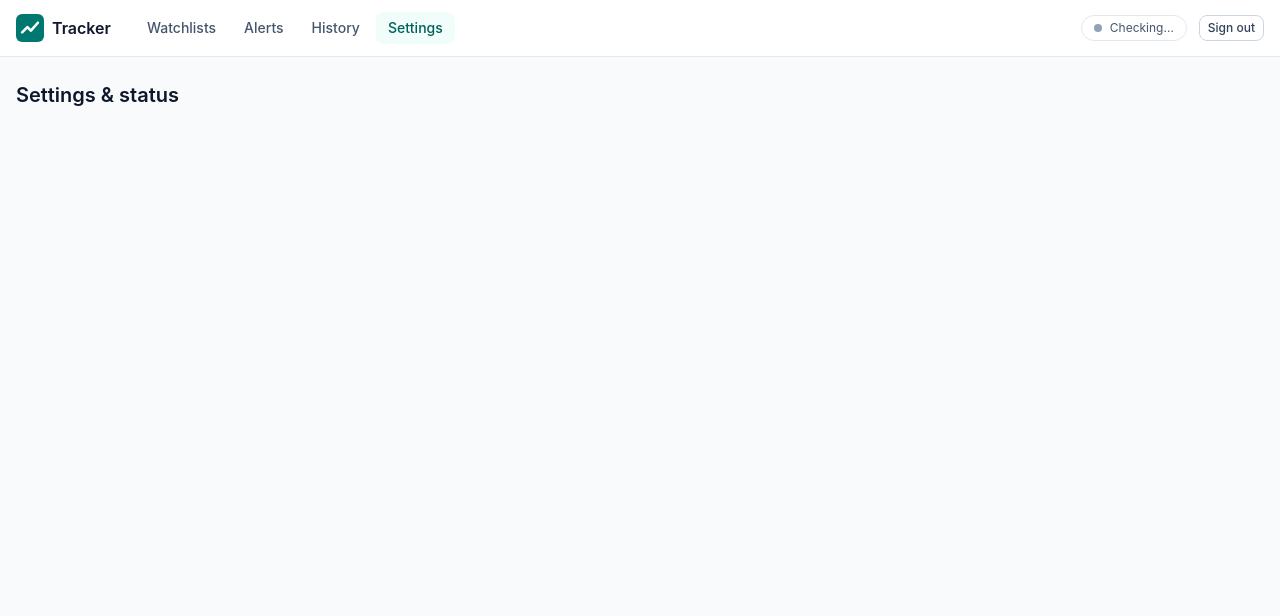
Test case: session handling › returns to the login page after signing out
The width and height of the screenshot is (1280, 616).
What coordinates should you click on to do the following:
click the button "Sign out"
I would click on:
 (1231, 28)
Its box is 1199,15 -> 1264,41.
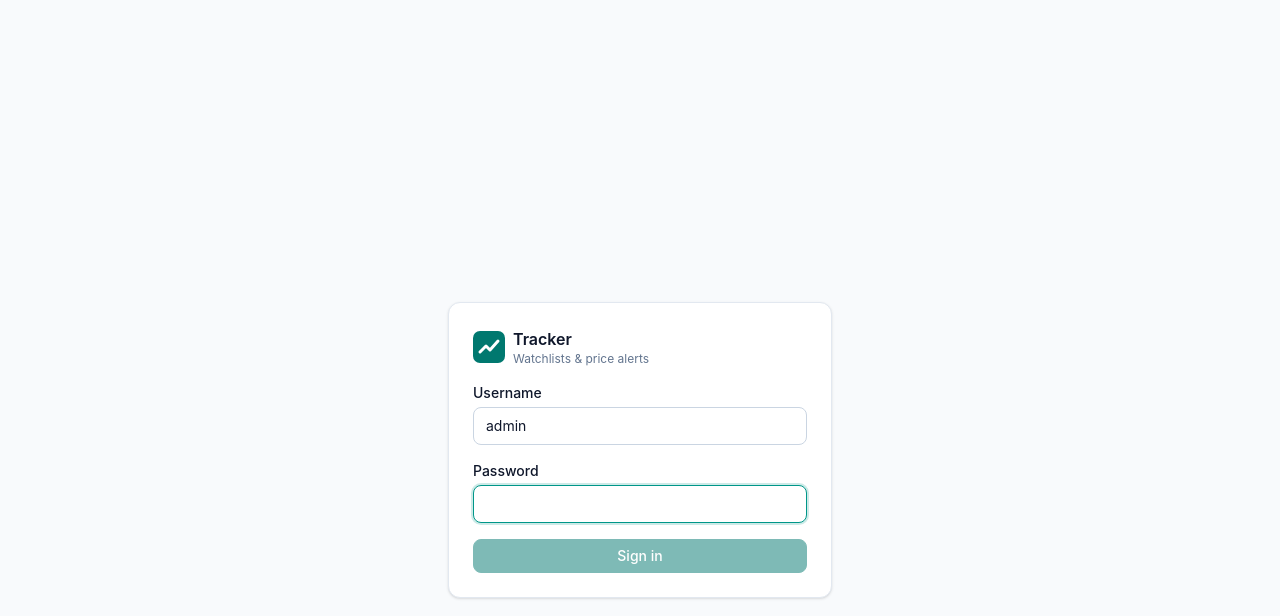
Now the button "Sign in" is shown, box 473,539 -> 807,573
